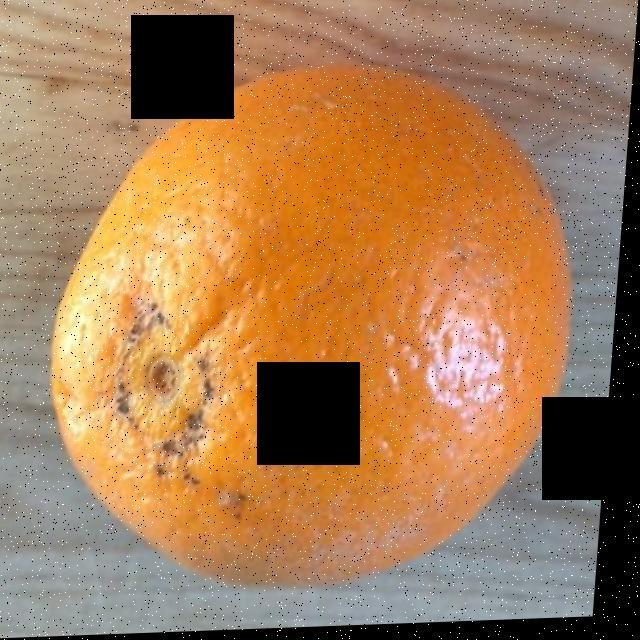orange: (59, 73, 566, 577)
